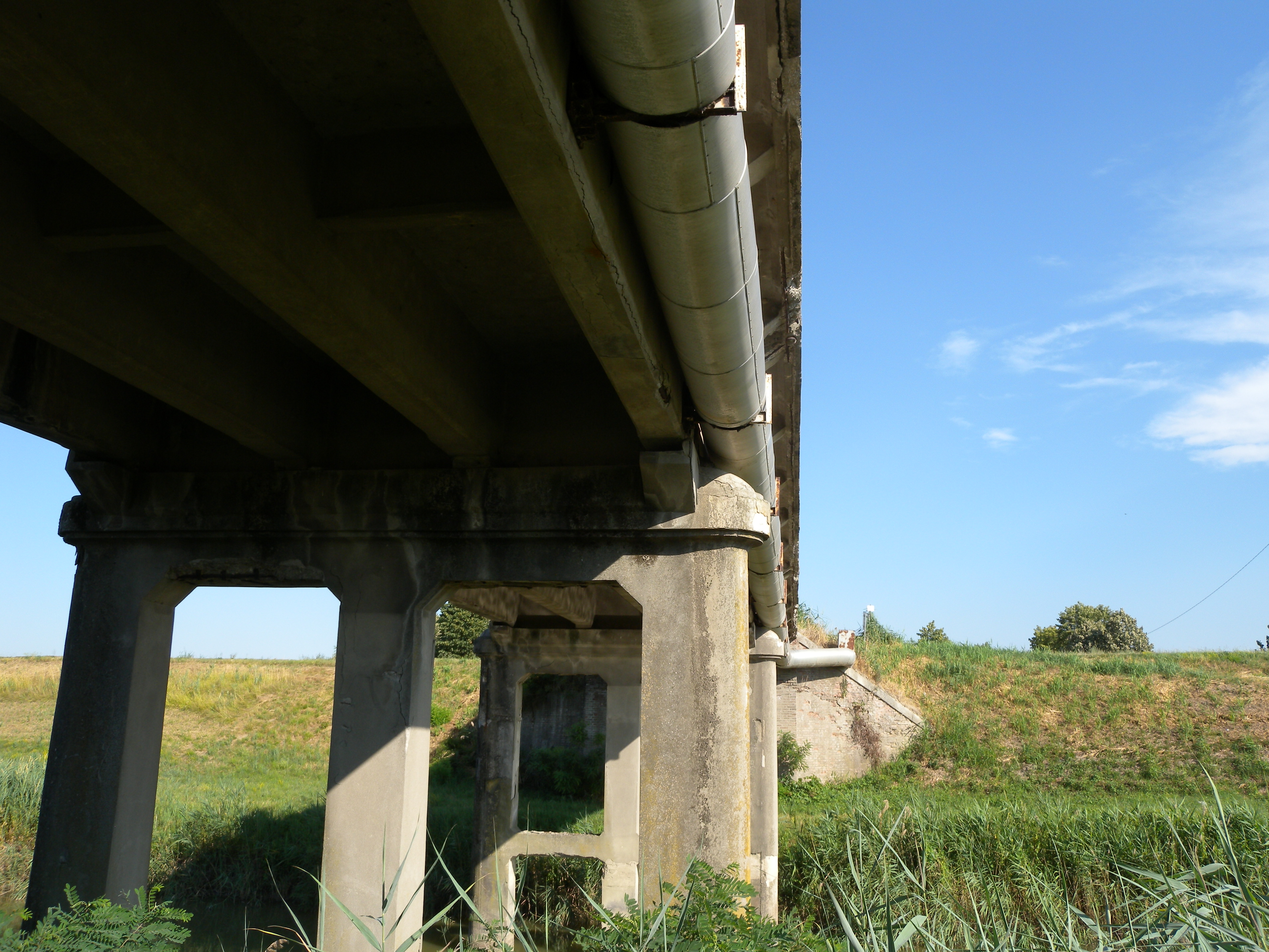Crack: (333, 561, 367, 717), (392, 640, 419, 740)
Leaching: (476, 660, 517, 803), (389, 533, 424, 690)
Spalling: (163, 556, 339, 590), (508, 827, 607, 880)
